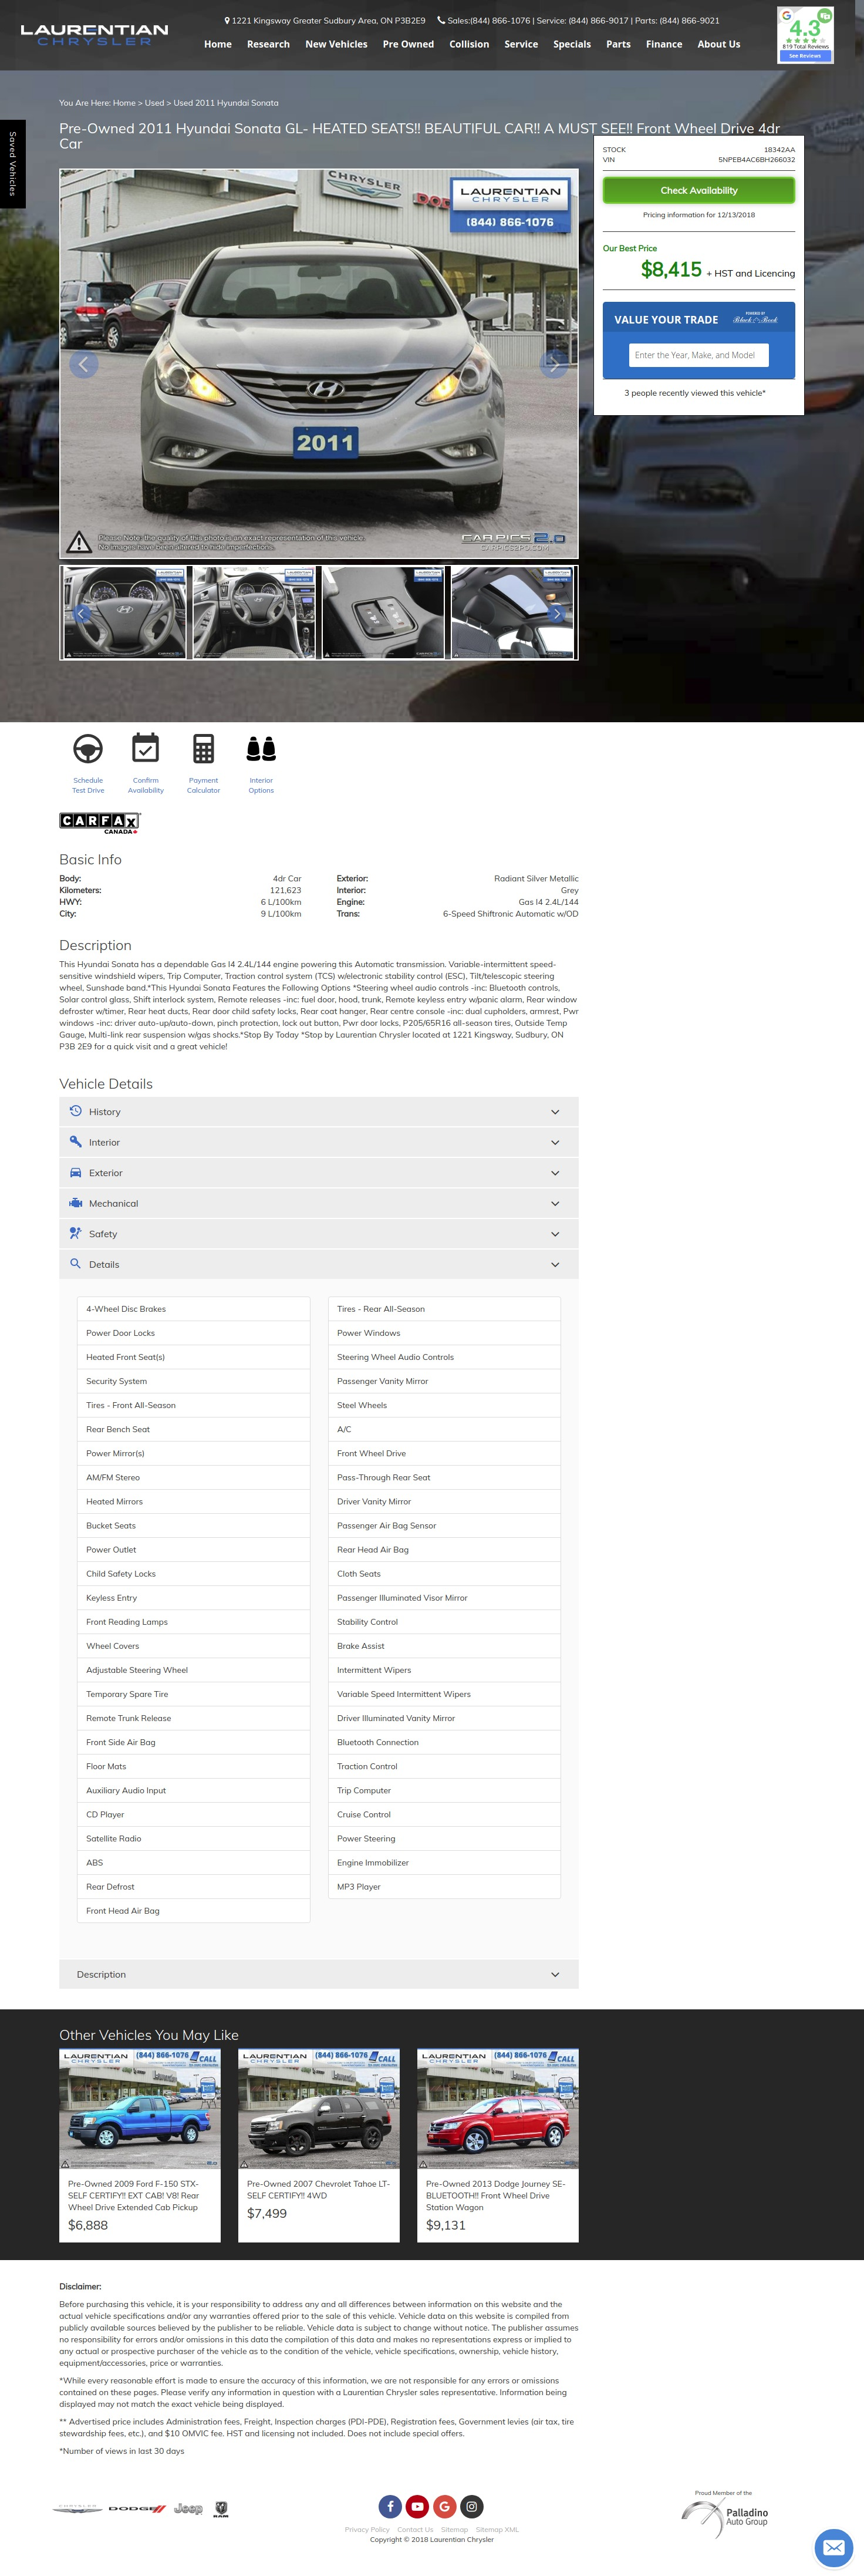car: (554, 609, 562, 619)
